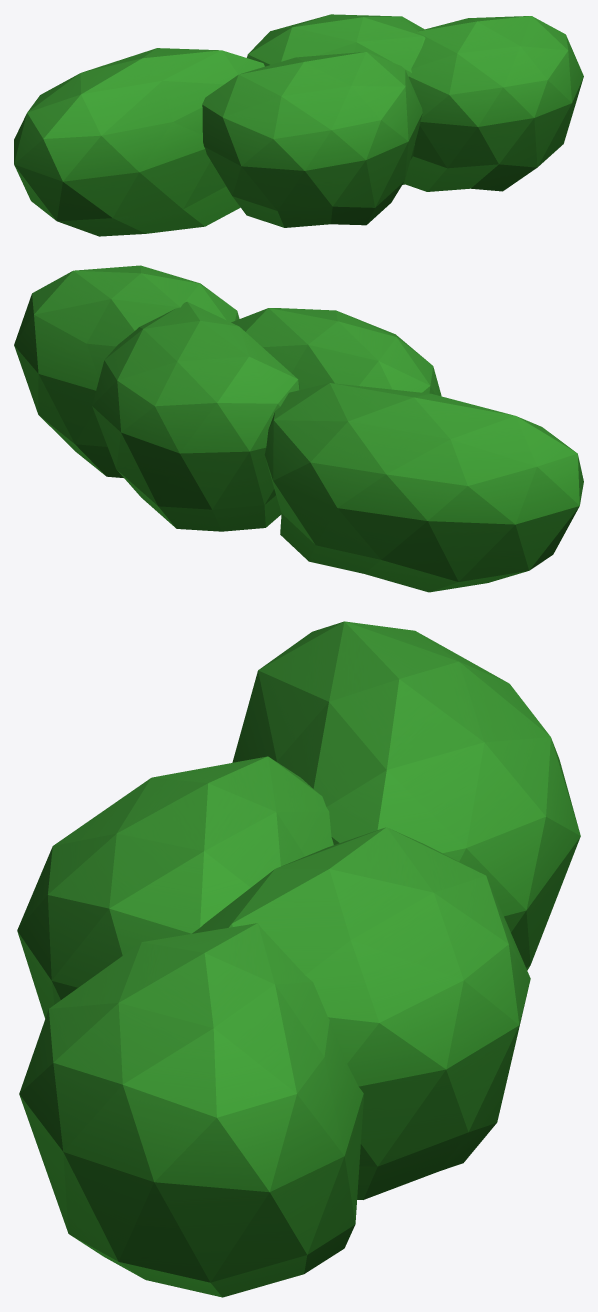
Rendered from Bushes.fbx.
3 views of the same model, one above another, from view 1: azimuth 30°, elevation 25°; view 2: azimuth 150°, elevation 25°; view 3: azimuth 270°, elevation 25° (orthographic). The views are drawn at different scales.
Parts seen in each view (by area): view 1: Multiple Bushes; view 2: Multiple Bushes; view 3: Multiple Bushes.
Part boxes in pixels (left/top/right/bottom): Multiple Bushes: left=14, top=14, right=583, bottom=236; Multiple Bushes: left=14, top=265, right=583, bottom=592; Multiple Bushes: left=17, top=621, right=580, bottom=1297.
Bounding box in the file's own units: 754 × 216 × 356.
